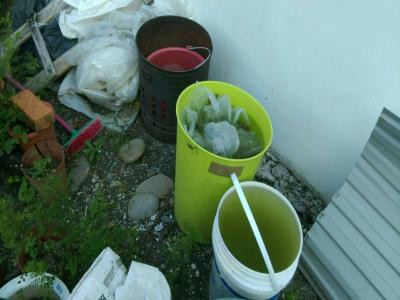bucket: (174, 79, 276, 247), (206, 179, 305, 299), (134, 14, 215, 147)
plastic_bag: (64, 1, 138, 104)
